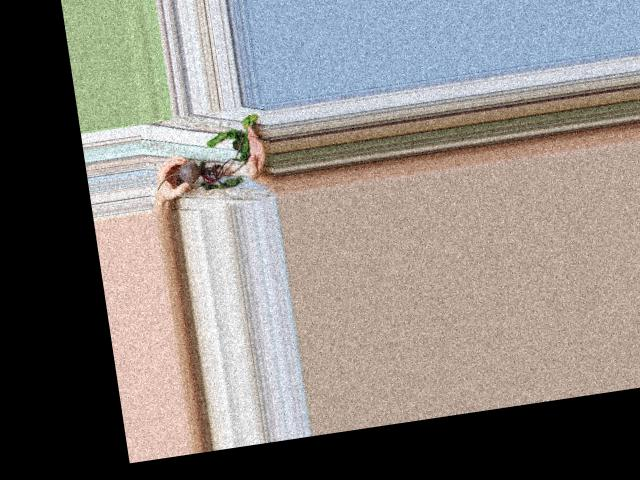beet: (148, 113, 266, 197)
